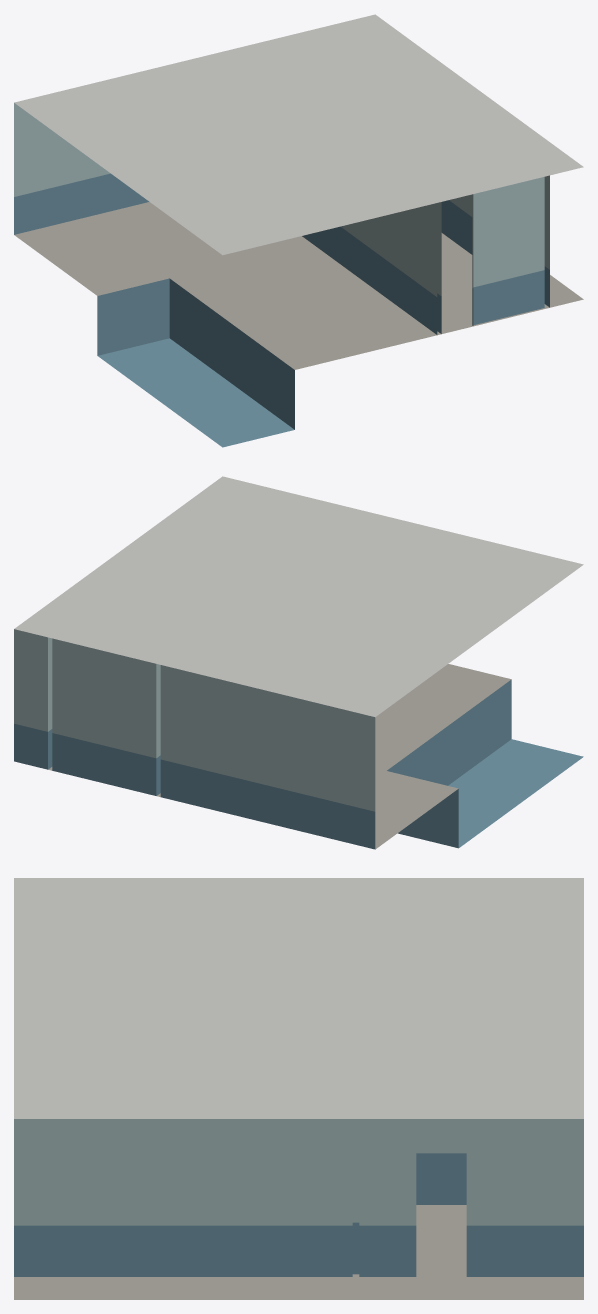
Rendered from chunk_2_0.glb.
3 renders of one model, top to bottom at view 1: azimuth 30°, elevation 25°; view 2: azimuth 150°, elevation 25°; view 3: azimuth 270°, elevation 25°, orthographic. The views are drawn at different scales.
Visible parts, largest first — view 1: chunk_2_0; view 2: chunk_2_0; view 3: chunk_2_0.
Part boxes in pixels (x1,y1,x2,y2): chunk_2_0: (14, 14, 583, 447); chunk_2_0: (14, 476, 583, 849); chunk_2_0: (14, 878, 583, 1299).
Bounding box in the file's own units: 12 × 6.1 × 12.
